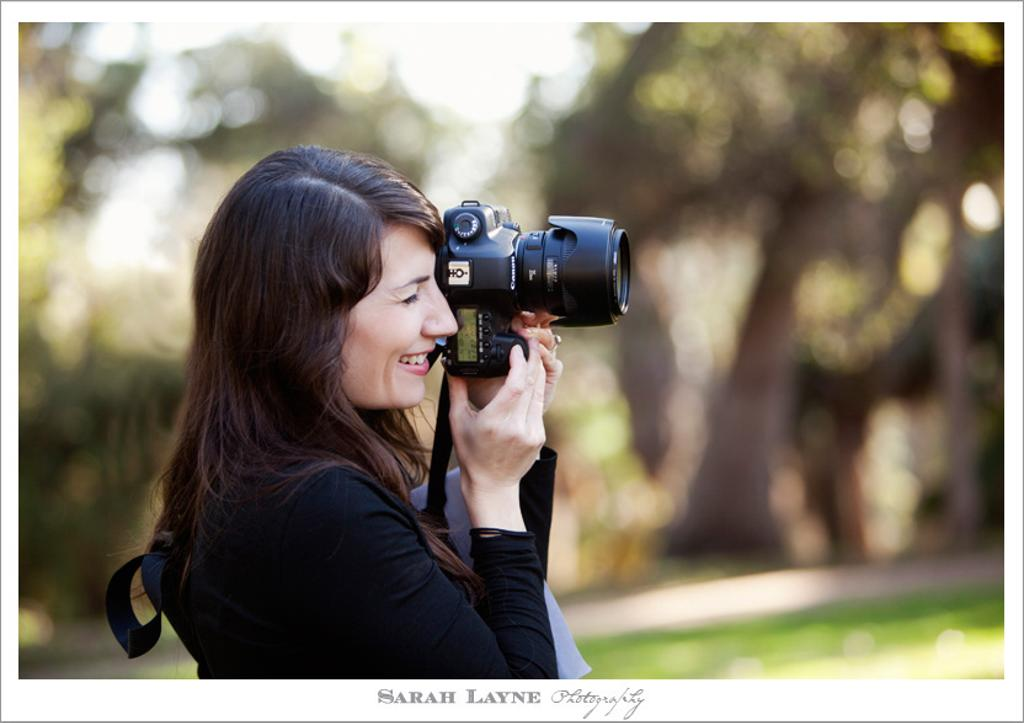face: (316, 206, 460, 412)
